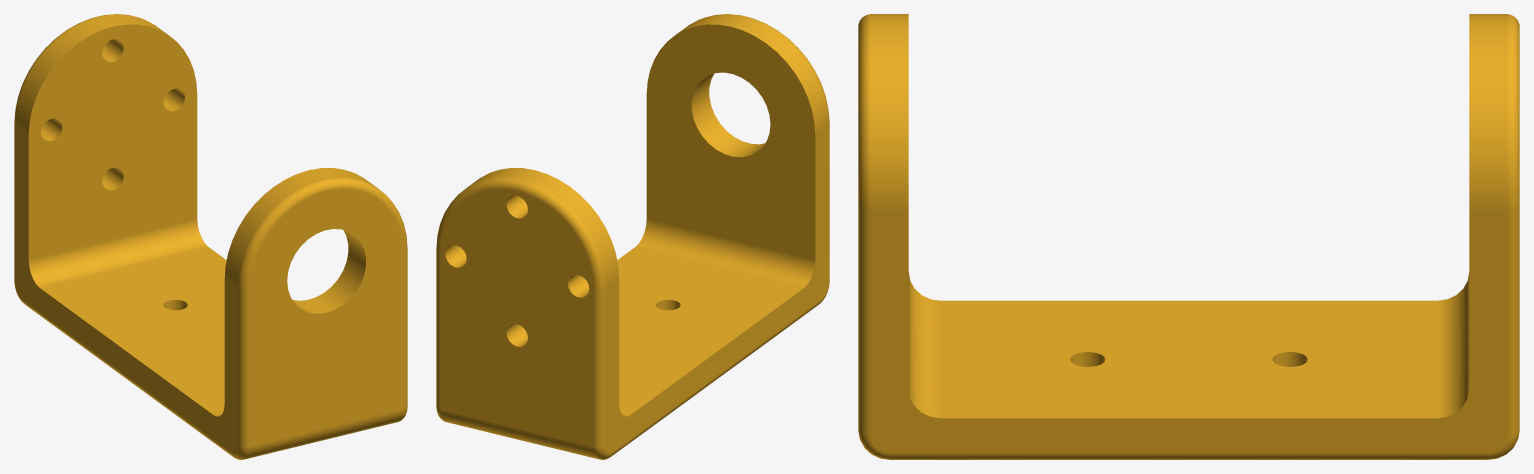
Rendered from Neck.dae.
3 views of the same model, side by side, from view 1: azimuth 30°, elevation 25°; view 2: azimuth 150°, elevation 25°; view 3: azimuth 270°, elevation 25° (orthographic). The views are drawn at different scales.
Visible parts, largest first — view 1: Body1_Plastic_-_Matte_(Yellow); view 2: Body1_Plastic_-_Matte_(Yellow); view 3: Body1_Plastic_-_Matte_(Yellow).
Part boxes in pixels (x1,y1,x2,y2): Body1_Plastic_-_Matte_(Yellow): [14, 14, 407, 459]; Body1_Plastic_-_Matte_(Yellow): [436, 14, 829, 459]; Body1_Plastic_-_Matte_(Yellow): [858, 14, 1519, 459].
Size of the model in its own units: 0.022 by 0.0523 by 0.033.
